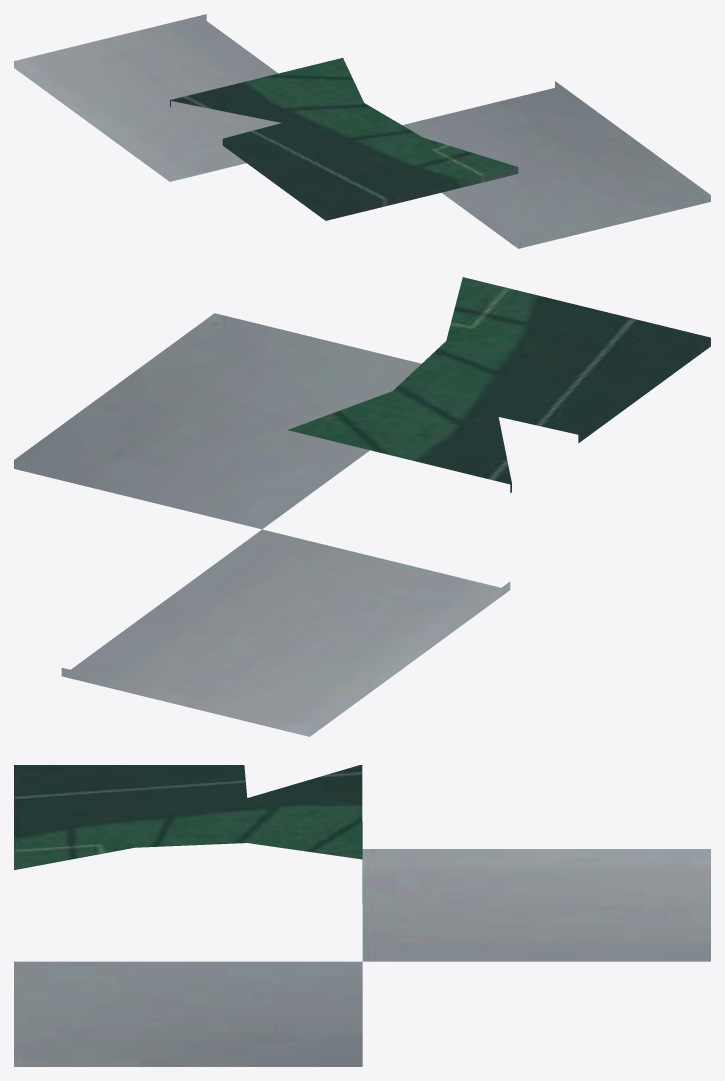
The picture shows the model from 3 angles, top to bottom: view 1: azimuth 30°, elevation 25°; view 2: azimuth 150°, elevation 25°; view 3: azimuth 270°, elevation 25°; orthographic projection. The views are drawn at different scales.
Visible parts, largest first — view 1: 3043627270437042751_1; view 2: 3043627270437042751_1; view 3: 3043627270437042751_1.
Boxes of the visible parts, x1,y1,x2,y2 form: 3043627270437042751_1: (14, 14, 710, 248); 3043627270437042751_1: (14, 277, 710, 736); 3043627270437042751_1: (14, 765, 710, 1066).
Bounding box in the file's own units: 54.64 × 11.1 × 76.52.
1 material, 1 textured.
